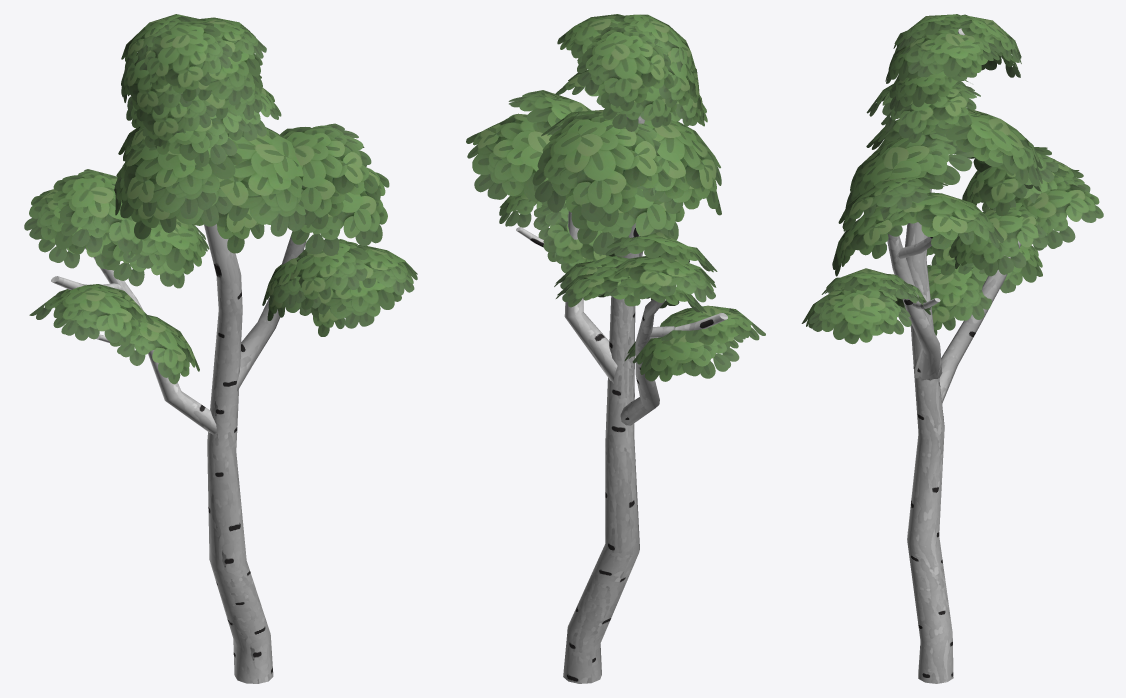
File: birch_7.glb
3 views of the same model, side by side, from view 1: azimuth 30°, elevation 25°; view 2: azimuth 150°, elevation 25°; view 3: azimuth 270°, elevation 25° (orthographic). The views are drawn at different scales.
Parts seen in each view (by area): view 1: Birch_7; view 2: Birch_7; view 3: Birch_7.
Boxes of the visible parts, x1,y1,x2,y2 form: Birch_7: (24,14,417,683); Birch_7: (466,14,765,683); Birch_7: (801,14,1103,683).
Bounding box in the file's own units: 4.88 × 9.92 × 4.46.
Materials: 2 (2 with a texture image).
